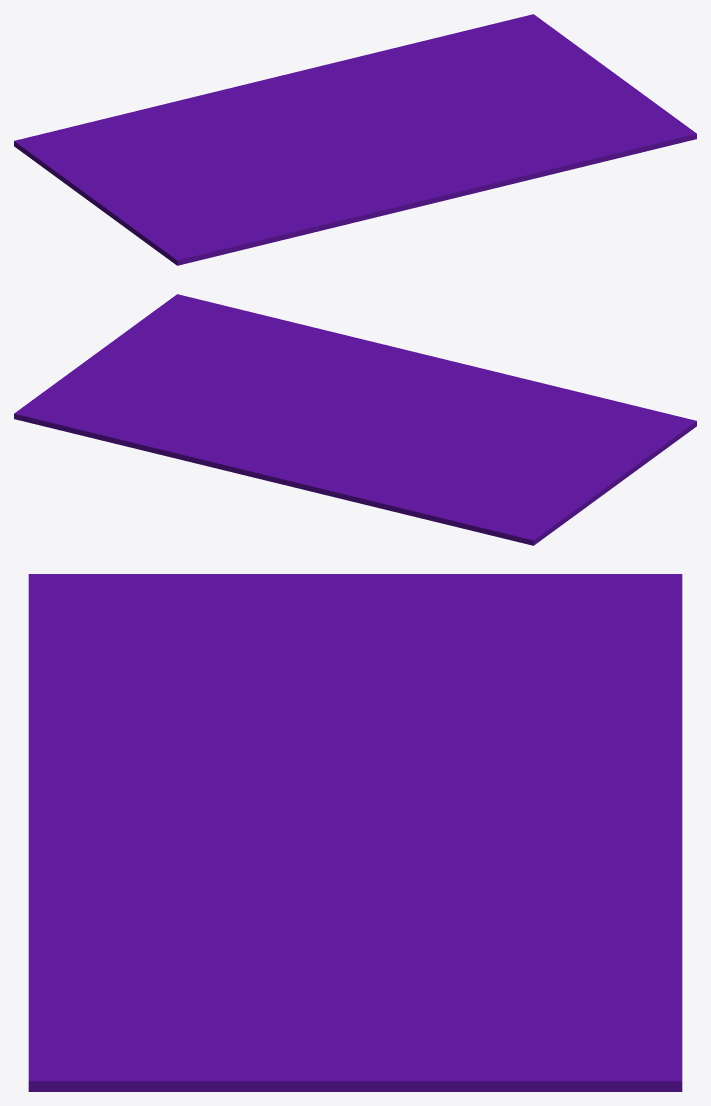
Rendered from Exhibition_18.001_chunks.fbx.
The picture shows the model from 3 angles, top to bottom: view 1: azimuth 30°, elevation 25°; view 2: azimuth 150°, elevation 25°; view 3: azimuth 270°, elevation 25°; orthographic projection. The views are drawn at different scales.
Visible parts, largest first — view 1: Exhibition_18.001_2, Exhibition_18.001_0, Exhibition_18.001_1; view 2: Exhibition_18.001_2, Exhibition_18.001_1, Exhibition_18.001_0; view 3: Exhibition_18.001_2, Exhibition_18.001_1, Exhibition_18.001_0.
Part boxes in pixels (x1,y1,x2,y2): Exhibition_18.001_2: (326, 14, 696, 175); Exhibition_18.001_0: (110, 138, 546, 265); Exhibition_18.001_1: (14, 65, 350, 216); Exhibition_18.001_2: (14, 294, 354, 469); Exhibition_18.001_1: (220, 421, 630, 545); Exhibition_18.001_0: (328, 331, 696, 474); Exhibition_18.001_2: (28, 829, 682, 1091); Exhibition_18.001_1: (296, 574, 682, 878); Exhibition_18.001_0: (28, 574, 352, 933).
Size of the model in its own units: 1622 by 16.07 by 883.
